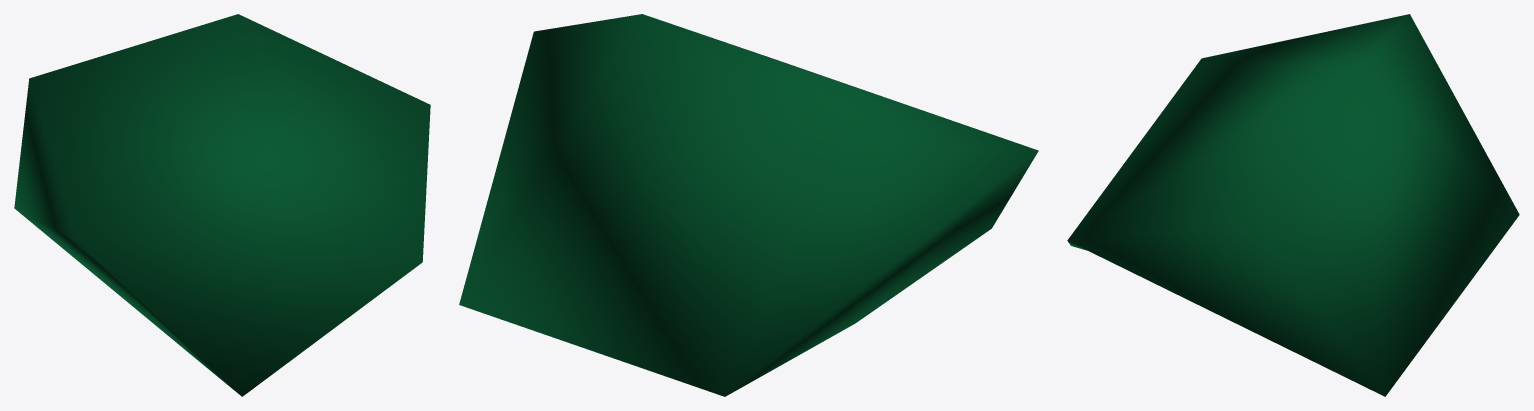
Rendered from Bush6.fbx.
3 views of the same model, side by side, from view 1: azimuth 30°, elevation 25°; view 2: azimuth 150°, elevation 25°; view 3: azimuth 270°, elevation 25° (orthographic). The views are drawn at different scales.
Visible parts, largest first — view 1: Bush6; view 2: Bush6; view 3: Bush6.
Boxes of the visible parts, <box> form: Bush6: <box>14,14,430,396</box>; Bush6: <box>459,14,1038,396</box>; Bush6: <box>1067,14,1519,396</box>.
Size of the model in its own units: 40.69 by 27.78 by 41.28.
